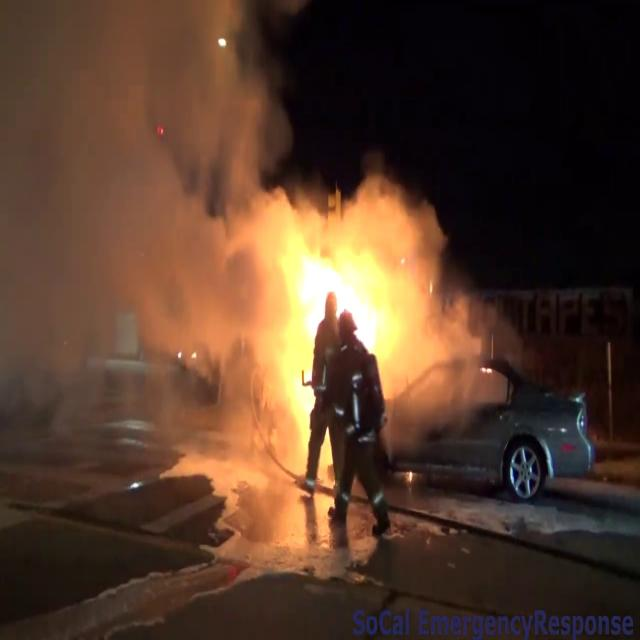Fire: (264, 219, 404, 421)
Smoke: (0, 1, 287, 467)
